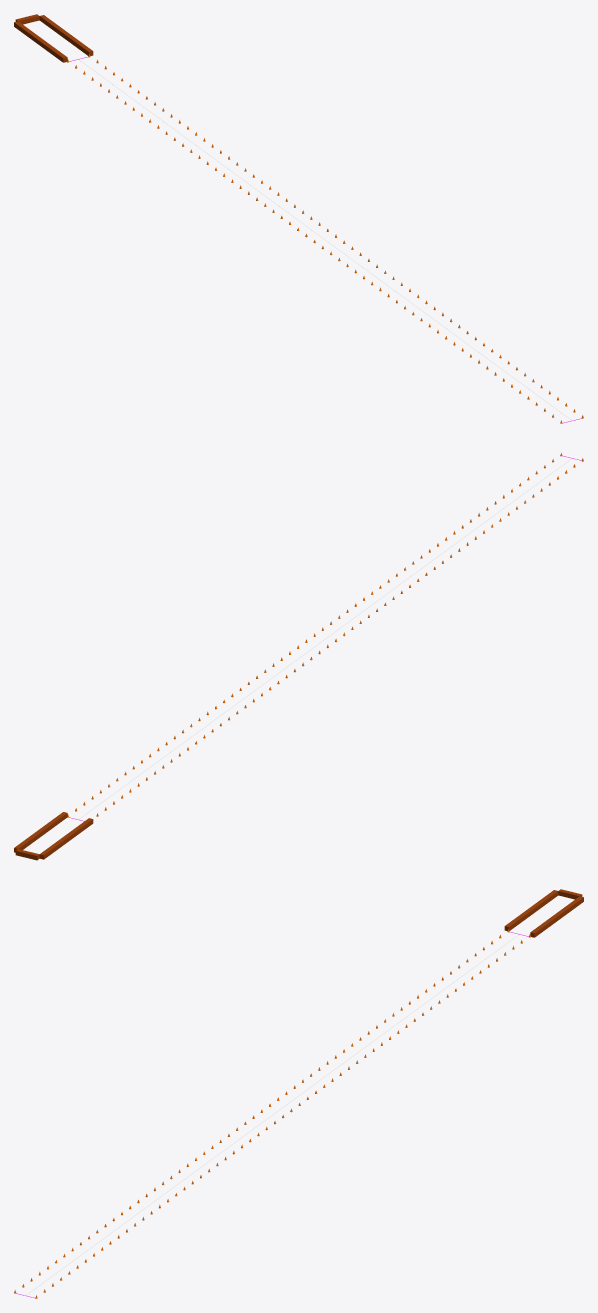
File: DragRaceTrack.dae
The picture shows the model from 3 angles, top to bottom: view 1: azimuth 30°, elevation 25°; view 2: azimuth 150°, elevation 25°; view 3: azimuth 330°, elevation 25°; orthographic projection.
Visible parts, largest first — view 1: Box_Powder_Coat_(Red), Middle_Powder_Coat_-_Rough_(White); view 2: Box_Powder_Coat_(Red), Middle_Powder_Coat_-_Rough_(White); view 3: Box_Powder_Coat_(Red), Middle_Powder_Coat_-_Rough_(White).
Part boxes in pixels (bbox=[...]): Box_Powder_Coat_(Red): bbox=[14, 14, 93, 62]; Middle_Powder_Coat_-_Rough_(White): bbox=[78, 59, 571, 420]; Box_Powder_Coat_(Red): bbox=[14, 812, 93, 860]; Middle_Powder_Coat_-_Rough_(White): bbox=[78, 458, 571, 819]; Box_Powder_Coat_(Red): bbox=[504, 889, 583, 937]; Middle_Powder_Coat_-_Rough_(White): bbox=[26, 934, 519, 1295].
Bounding box in the file's own units: 2.1 × 66.42 × 0.3.
